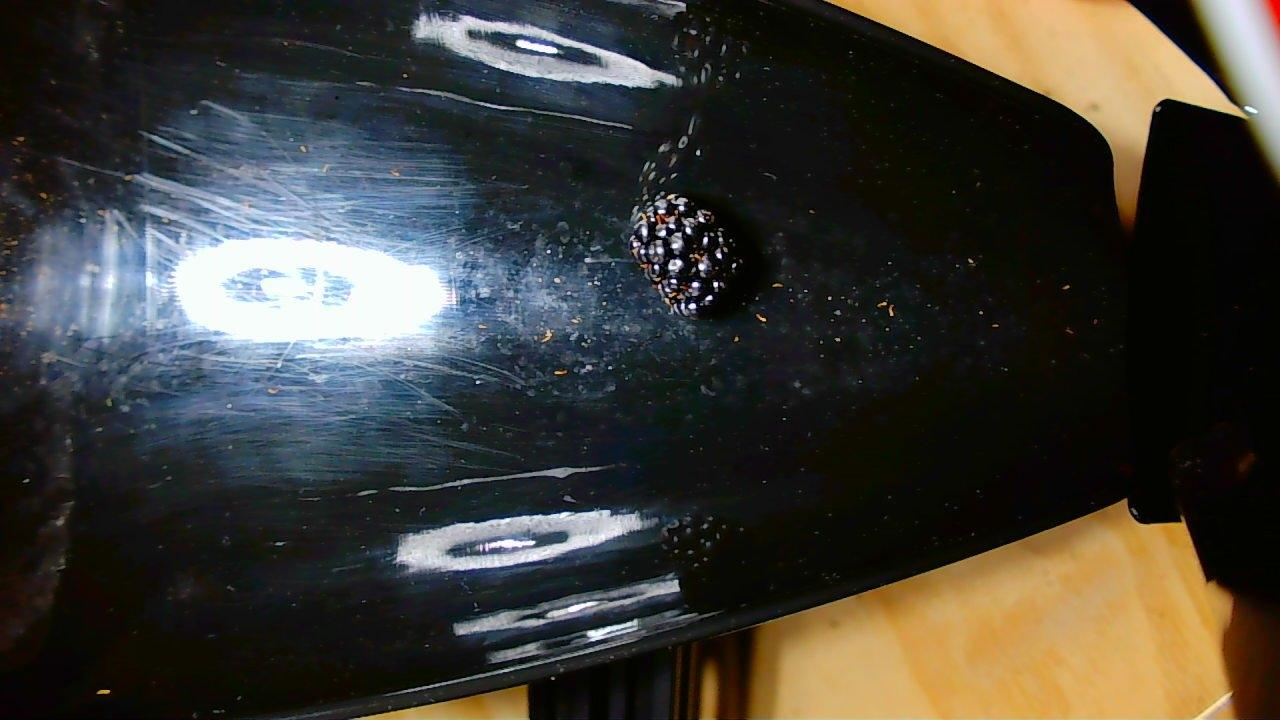berry: (630, 186, 744, 316)
